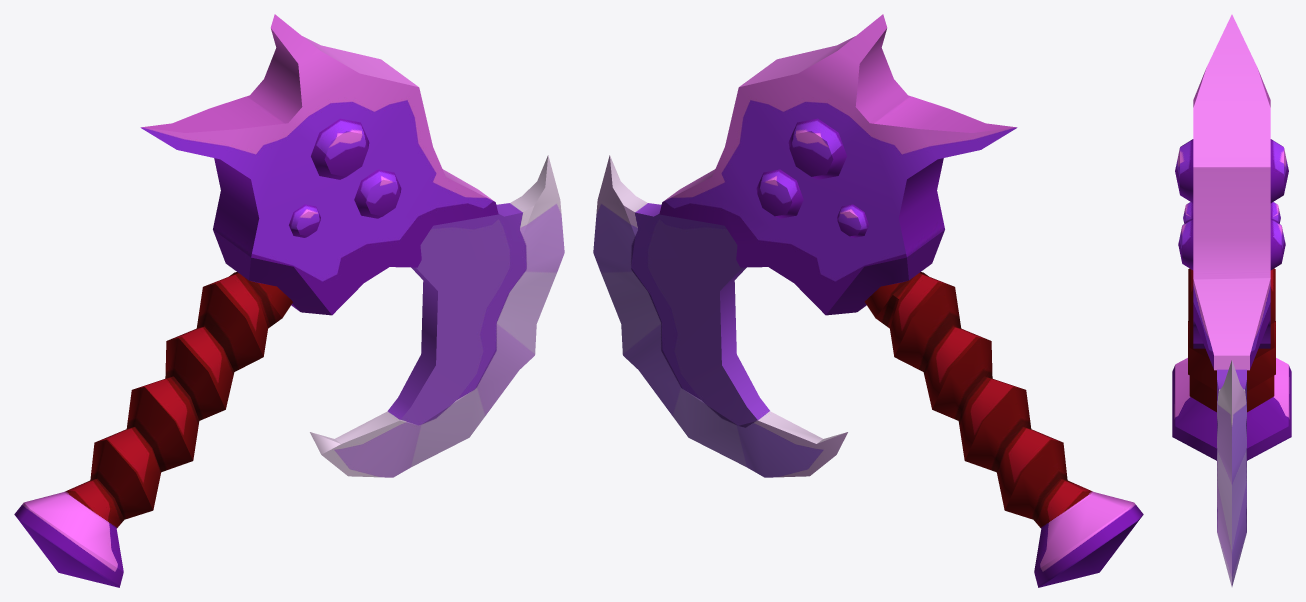
File: Dark spider_03.FBX
The picture shows the model from 3 angles, left to right: view 1: azimuth 30°, elevation 25°; view 2: azimuth 150°, elevation 25°; view 3: azimuth 270°, elevation 25°; orthographic projection.
Parts seen in each view (by area): view 1: Dark spider_03; view 2: Dark spider_03; view 3: Dark spider_03.
Part boxes in pixels (x1,y1,x2,y2): Dark spider_03: (14, 14, 564, 587); Dark spider_03: (593, 14, 1143, 587); Dark spider_03: (1172, 14, 1291, 586).
Size of the model in its own units: 77.87 by 72.15 by 14.6.
